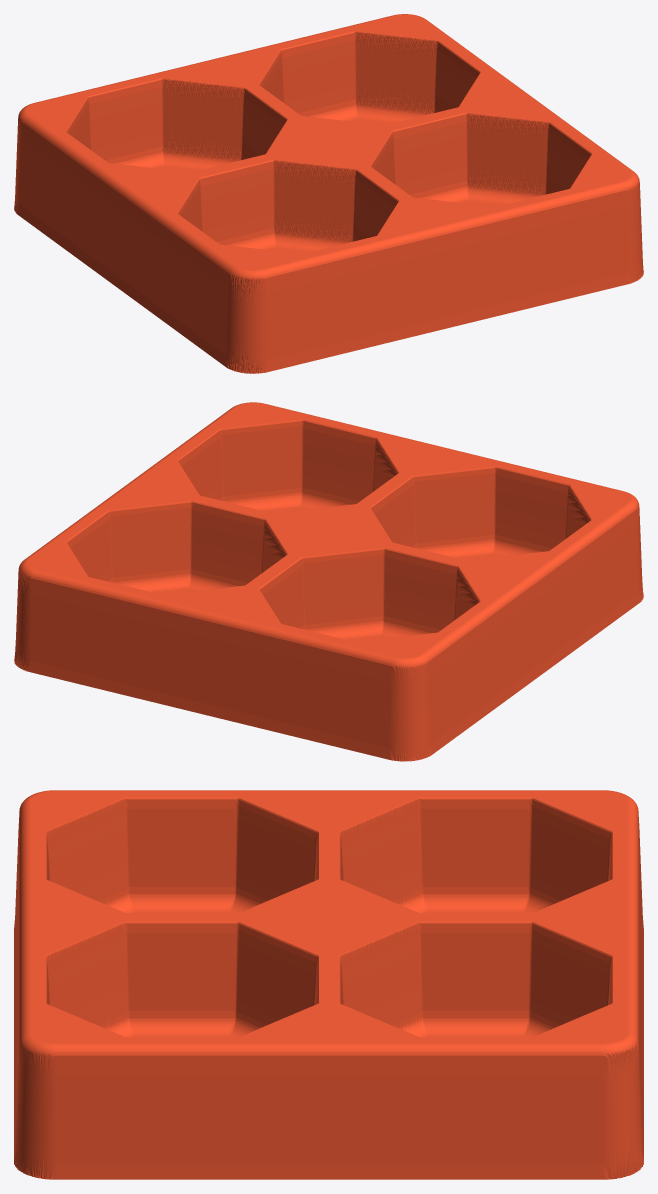
The model's file is mold.glb.
The picture shows the model from 3 angles, top to bottom: view 1: azimuth 30°, elevation 25°; view 2: azimuth 150°, elevation 25°; view 3: azimuth 270°, elevation 25°; orthographic projection. The views are drawn at different scales.
Parts seen in each view (by area): view 1: geometry_0; view 2: geometry_0; view 3: geometry_0.
Part boxes in pixels (x1,y1,x2,y2): geometry_0: [14, 14, 643, 373]; geometry_0: [14, 402, 643, 761]; geometry_0: [14, 790, 643, 1179].
Size of the model in its own units: 0.1369 by 0.031 by 0.1369.
